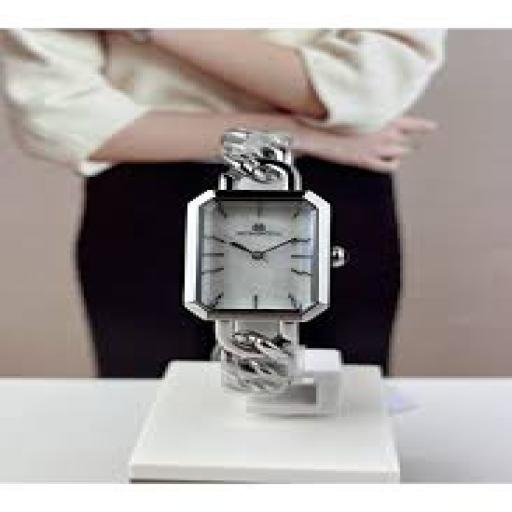KolSaati: (140, 105, 402, 428)
